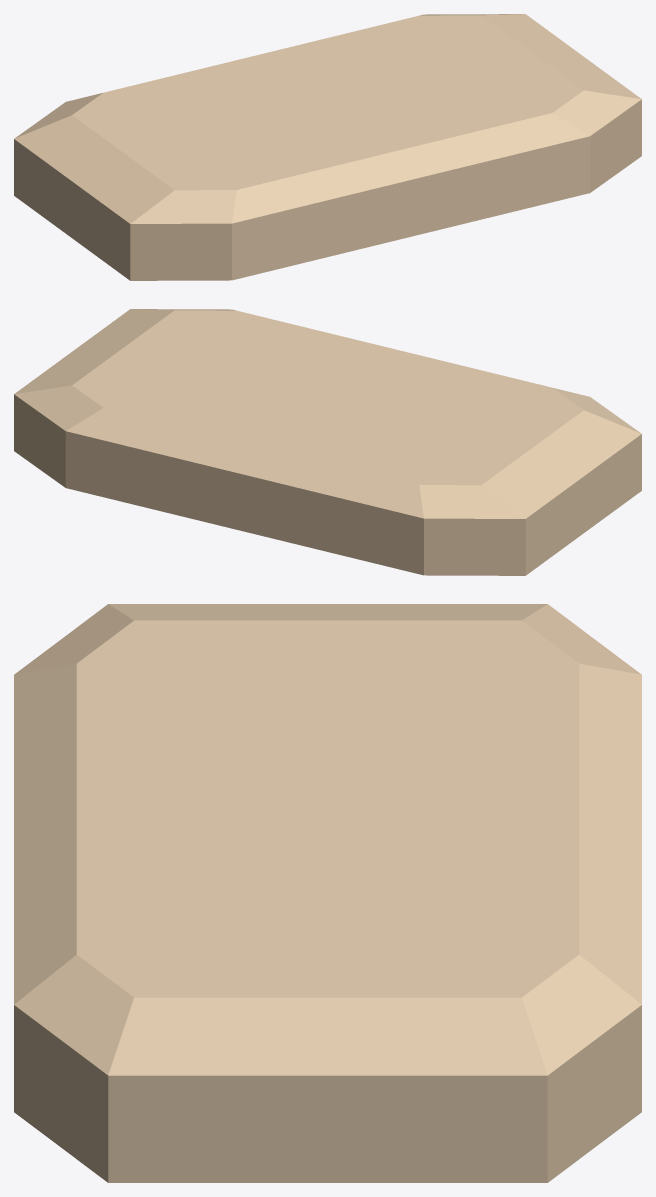
The model's file is puzzle_pressure_plate2.glb.
3 views of the same model, one above another, from view 1: azimuth 30°, elevation 25°; view 2: azimuth 150°, elevation 25°; view 3: azimuth 270°, elevation 25° (orthographic). The views are drawn at different scales.
Parts seen in each view (by area): view 1: object1; view 2: object1; view 3: object1.
Boxes of the visible parts, bbox=[...] form: object1: bbox=[14, 14, 641, 280]; object1: bbox=[14, 309, 641, 575]; object1: bbox=[14, 604, 641, 1182].
Size of the model in its own units: 0.8883 by 0.1213 by 0.5.
